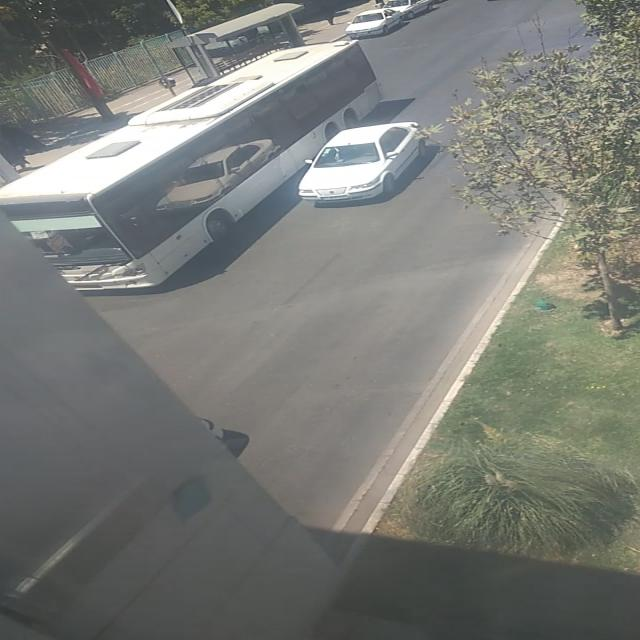bus: (0, 40, 380, 290)
car: (299, 122, 425, 204), (346, 8, 404, 40), (378, 0, 432, 20)
